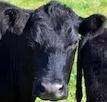muzzles: (36, 80, 68, 100)
